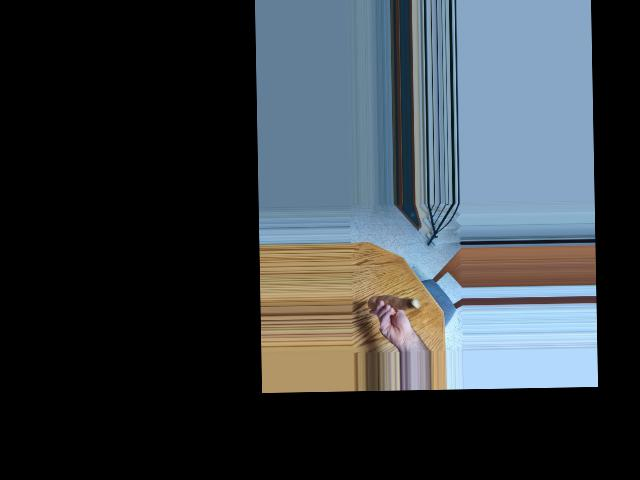sweet_potato: (369, 294, 420, 315)
